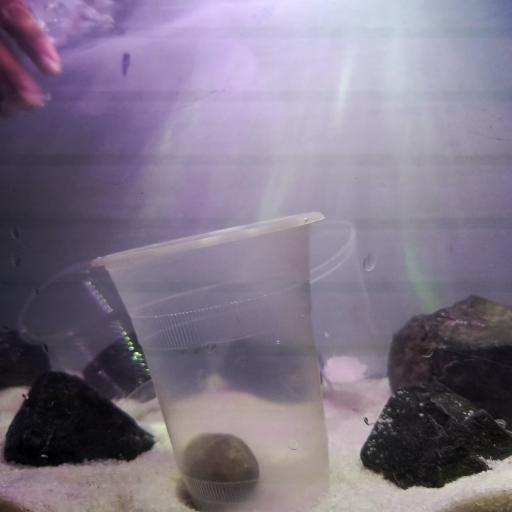plastic_cup: (90, 210, 331, 512), (14, 256, 162, 417), (240, 219, 374, 386)
